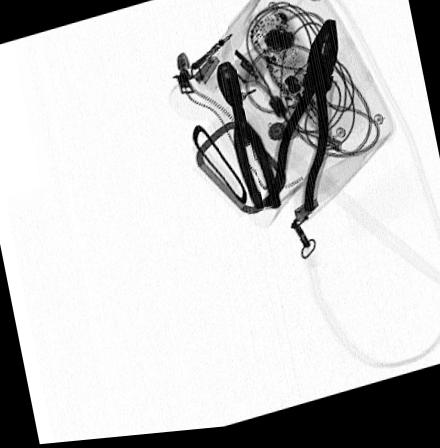Pliers: (268, 23, 338, 218), (215, 63, 281, 214)
